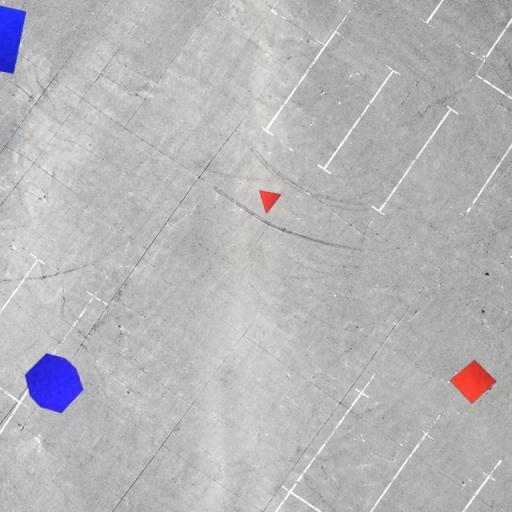RED_SQUARE: (449, 359, 497, 405)
